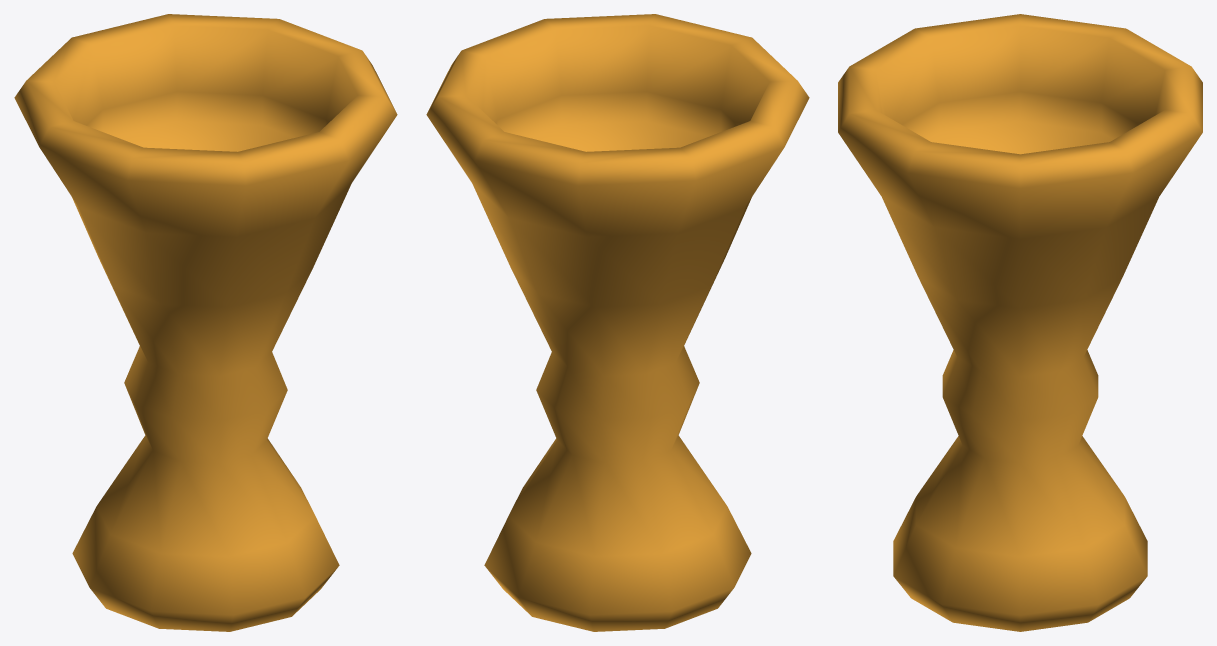
Rendered from museum_assets_3.fbx.
The picture shows the model from 3 angles, left to right: view 1: azimuth 30°, elevation 25°; view 2: azimuth 150°, elevation 25°; view 3: azimuth 270°, elevation 25°; orthographic projection.
Parts seen in each view (by area): view 1: kadeh; view 2: kadeh; view 3: kadeh.
Part boxes in pixels (box(x1,y1,x2,y2)): kadeh: box(14, 14, 397, 631); kadeh: box(426, 14, 809, 631); kadeh: box(838, 14, 1202, 631).
Size of the model in its own units: 0.9597 by 1.36 by 0.9127.
